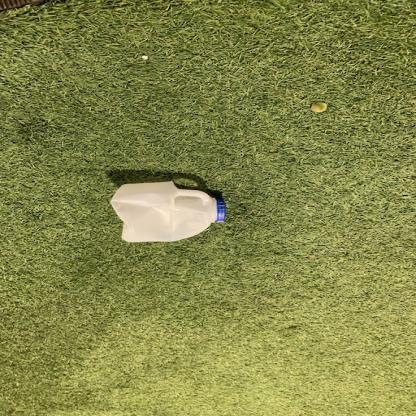trash: (108, 181, 227, 242)
